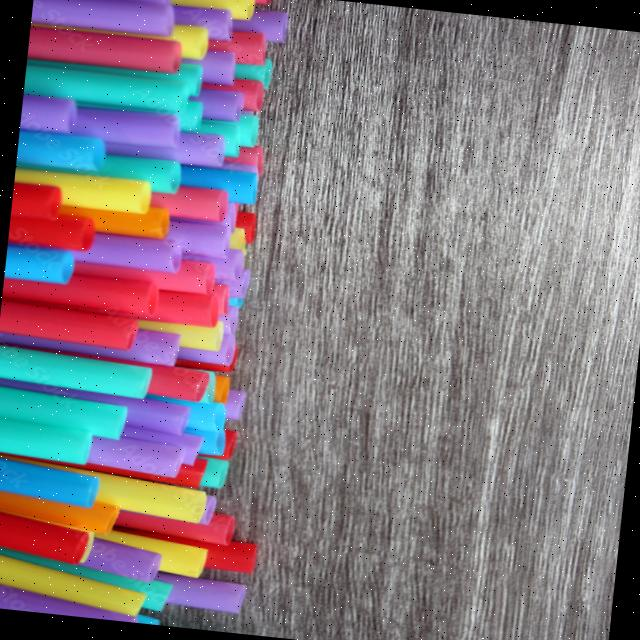plastic: (0, 338, 168, 407)
